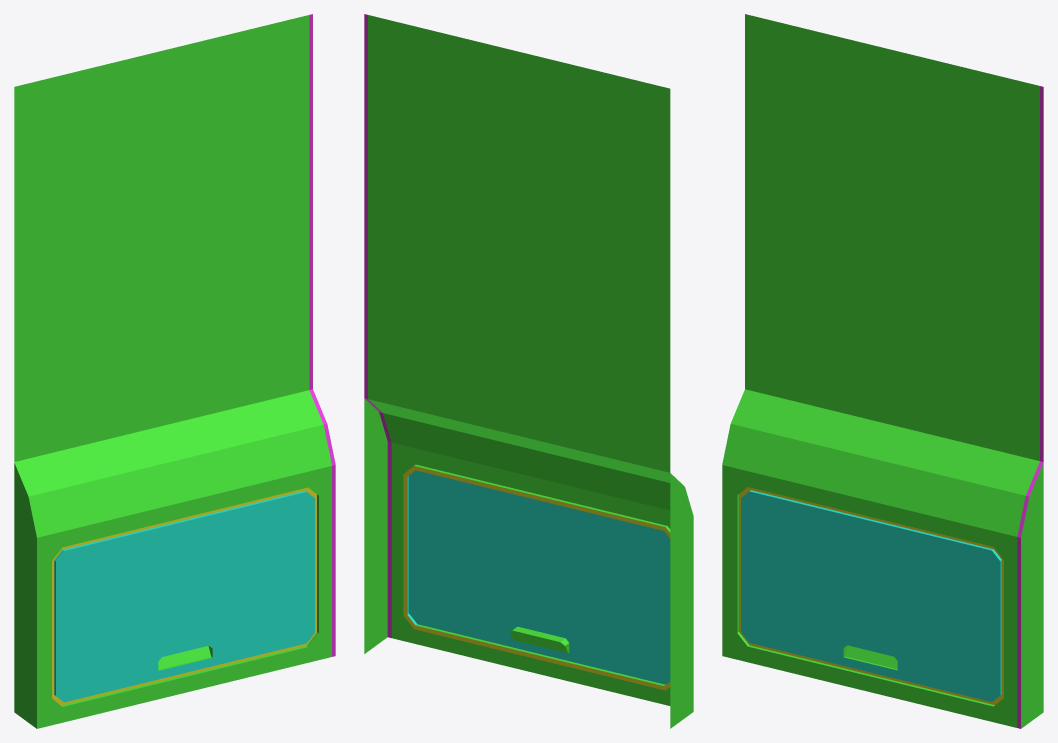
File: Wall_43_B_Straight.fbx
The picture shows the model from 3 angles, left to right: view 1: azimuth 30°, elevation 25°; view 2: azimuth 150°, elevation 25°; view 3: azimuth 330°, elevation 25°; orthographic projection. The views are drawn at different scales.
Parts seen in each view (by area): view 1: Wall_43_B_Straight; view 2: Wall_43_B_Straight; view 3: Wall_43_B_Straight.
Part boxes in pixels (x1,y1,x2,y2): Wall_43_B_Straight: (14,14,335,728); Wall_43_B_Straight: (364,14,693,728); Wall_43_B_Straight: (722,14,1043,728).
Bounding box in the file's own units: 229 × 457 × 30.28.
